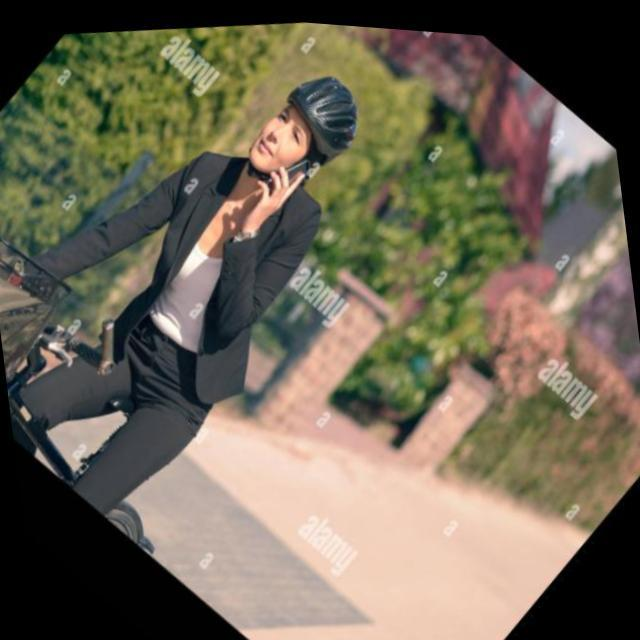use_mobile: (233, 154, 315, 251)
with_helmet: (244, 79, 359, 185)
